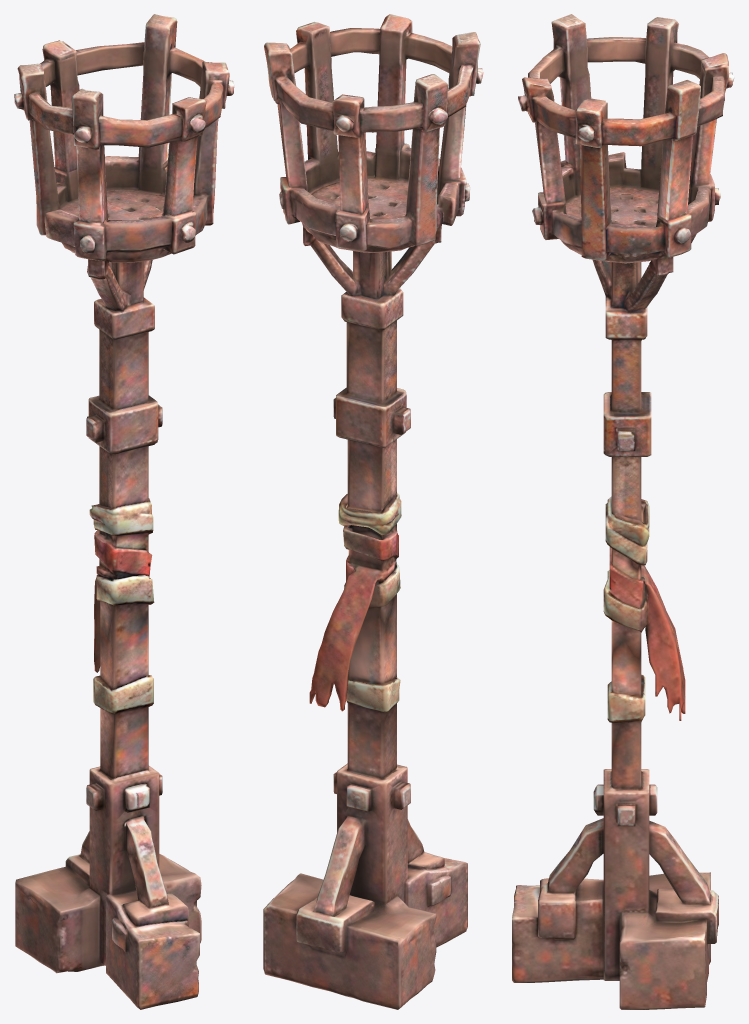
File: brazier_pole.glb
3 views of the same model, side by side, from view 1: azimuth 30°, elevation 25°; view 2: azimuth 150°, elevation 25°; view 3: azimuth 270°, elevation 25° (orthographic).
Parts seen in each view (by area): view 1: tripo_node_1643374e-58f6-4fdb-8a00-49fc8ec62545; view 2: tripo_node_1643374e-58f6-4fdb-8a00-49fc8ec62545; view 3: tripo_node_1643374e-58f6-4fdb-8a00-49fc8ec62545.
Part boxes in pixels (x1,y1,x2,y2): tripo_node_1643374e-58f6-4fdb-8a00-49fc8ec62545: (14,14,234,1009); tripo_node_1643374e-58f6-4fdb-8a00-49fc8ec62545: (263,14,483,1009); tripo_node_1643374e-58f6-4fdb-8a00-49fc8ec62545: (512,14,734,1009).
Bounding box in the file's own units: 0.2094 × 1 × 0.2192.
Materials: 1 (1 with a texture image).
